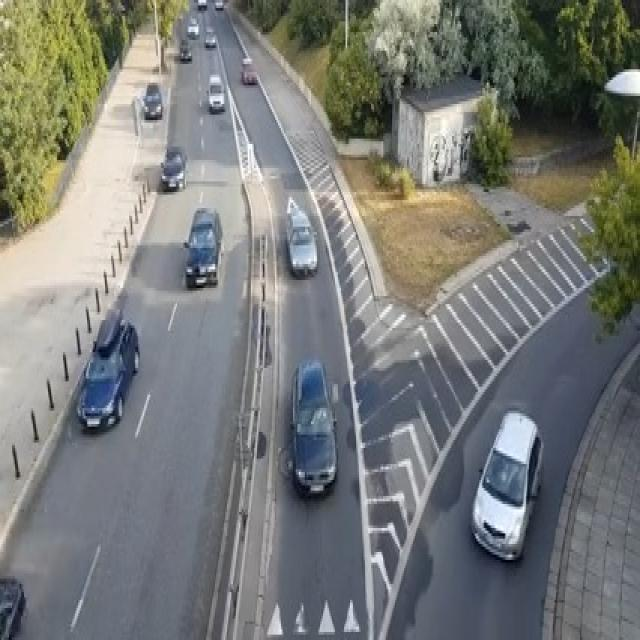car: (469, 408, 544, 560), (75, 307, 138, 429), (287, 357, 338, 499), (184, 205, 222, 288), (284, 195, 317, 277), (0, 576, 26, 637), (160, 144, 187, 189), (206, 72, 225, 112), (141, 83, 162, 117), (240, 56, 257, 83), (179, 38, 191, 62), (186, 16, 198, 37), (204, 27, 217, 45), (197, 0, 206, 8), (214, 0, 222, 8)
